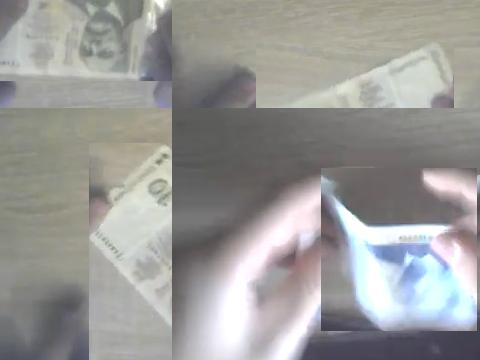10leva: (89, 143, 172, 331), (266, 42, 454, 108)
20leva: (321, 168, 477, 331)
